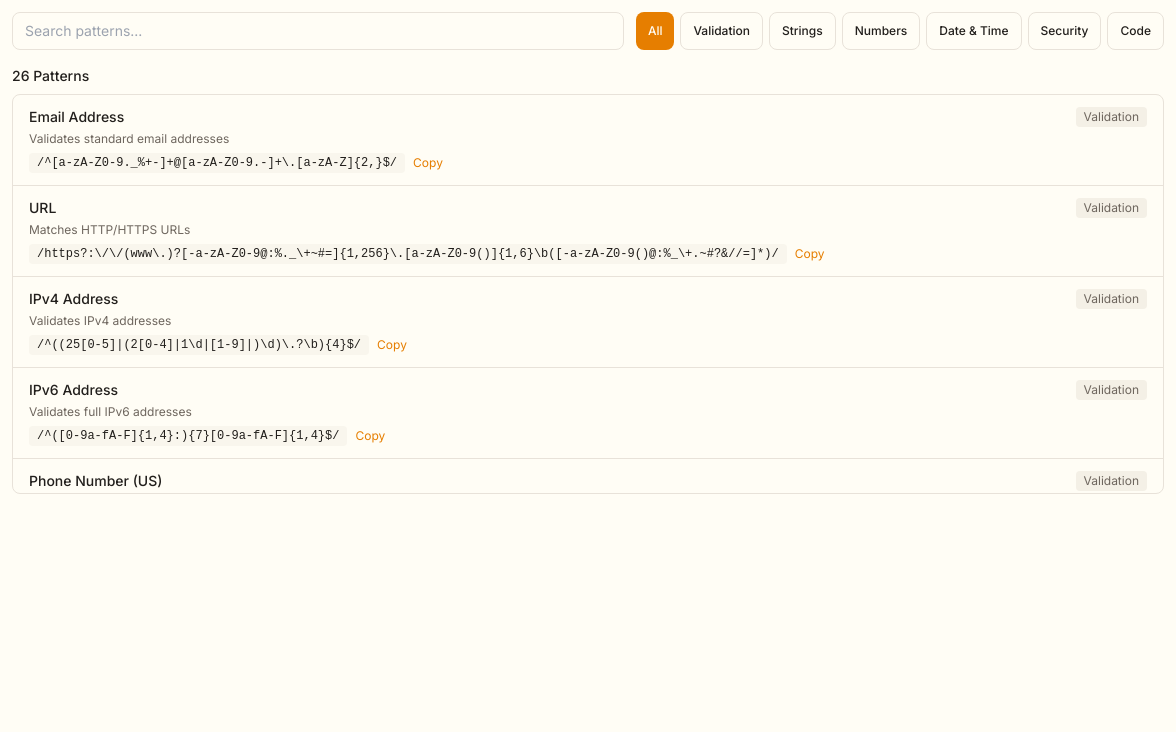
Scenario: RegexLibrary › selects a pattern and shows test panel
This screenshot has width=1176, height=732.
Click the text "Email Address".
click(77, 117)  # box [29,107,124,127]
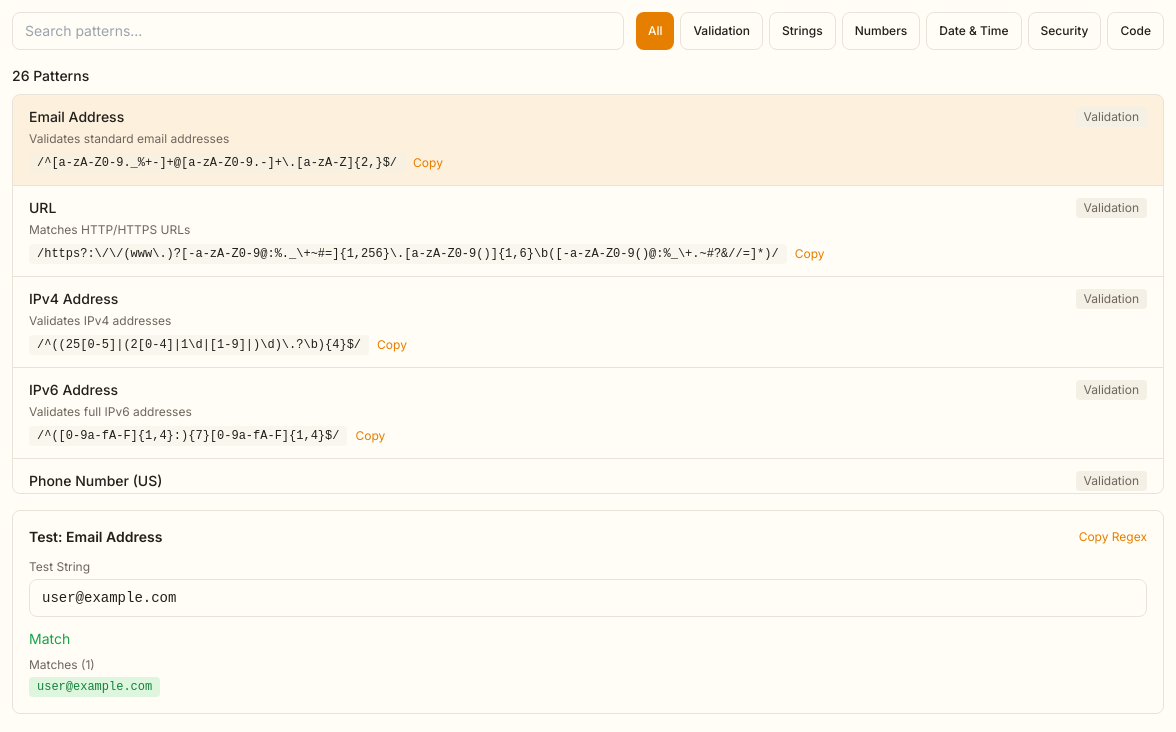
Now the heading "Test: Email Address" is shown, box [29,527,162,547]
Now the field named "Test string input" is shown, box [29,579,1147,617]
